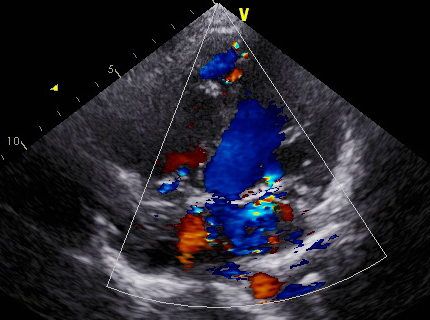MR: (206, 171, 310, 226)
